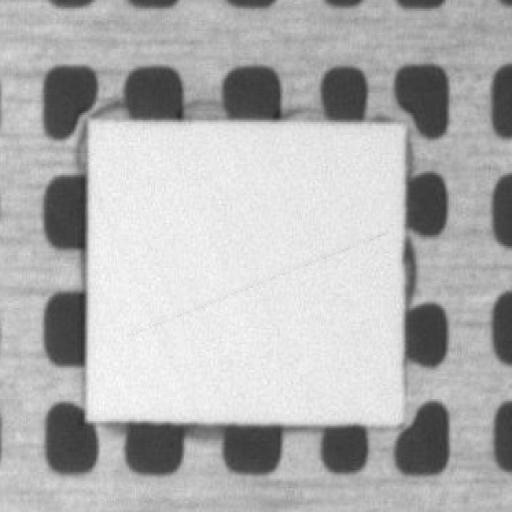DIE_CRACK: (166, 173, 512, 251)
